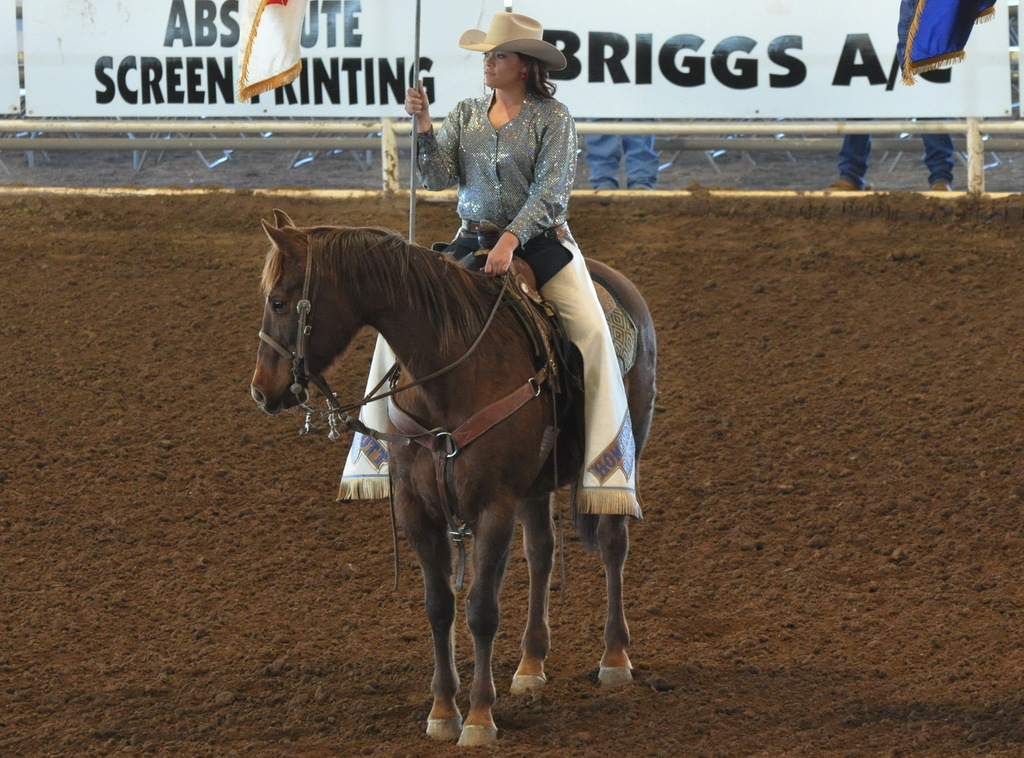Person: (334, 12, 643, 522)
